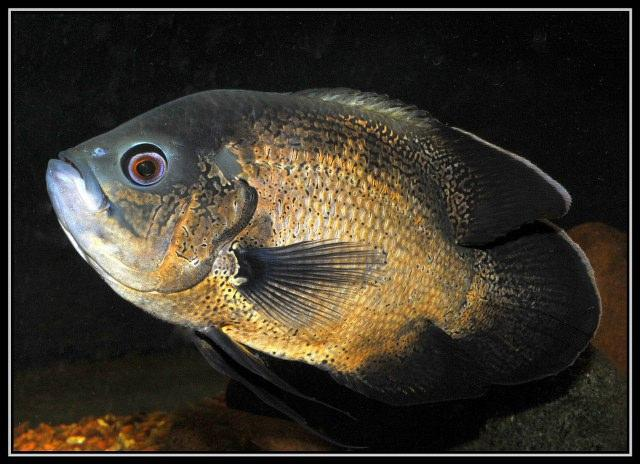Mulut: (30, 132, 116, 228)
Sirip Anal: (334, 318, 490, 414)
Sirip Dada: (217, 215, 395, 338)
Sirip Ekor: (466, 193, 610, 391)
Sirip Perut: (175, 314, 361, 454)
Sirip Punggung: (316, 64, 576, 242)
